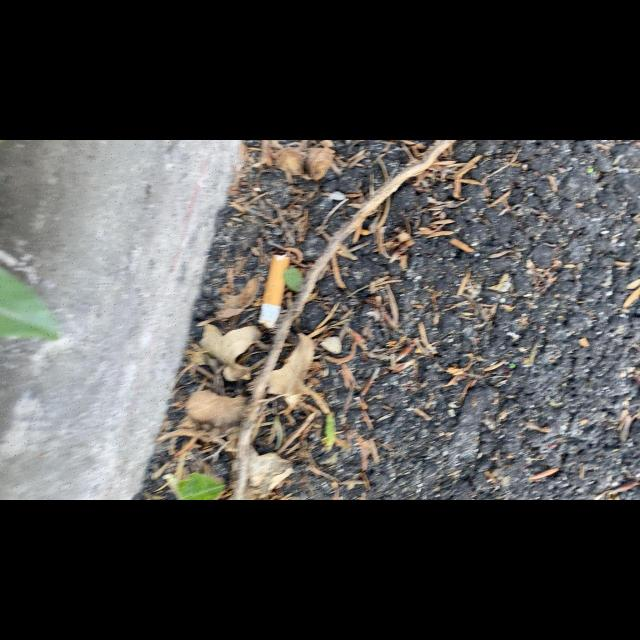cigarette: (257, 253, 291, 329)
